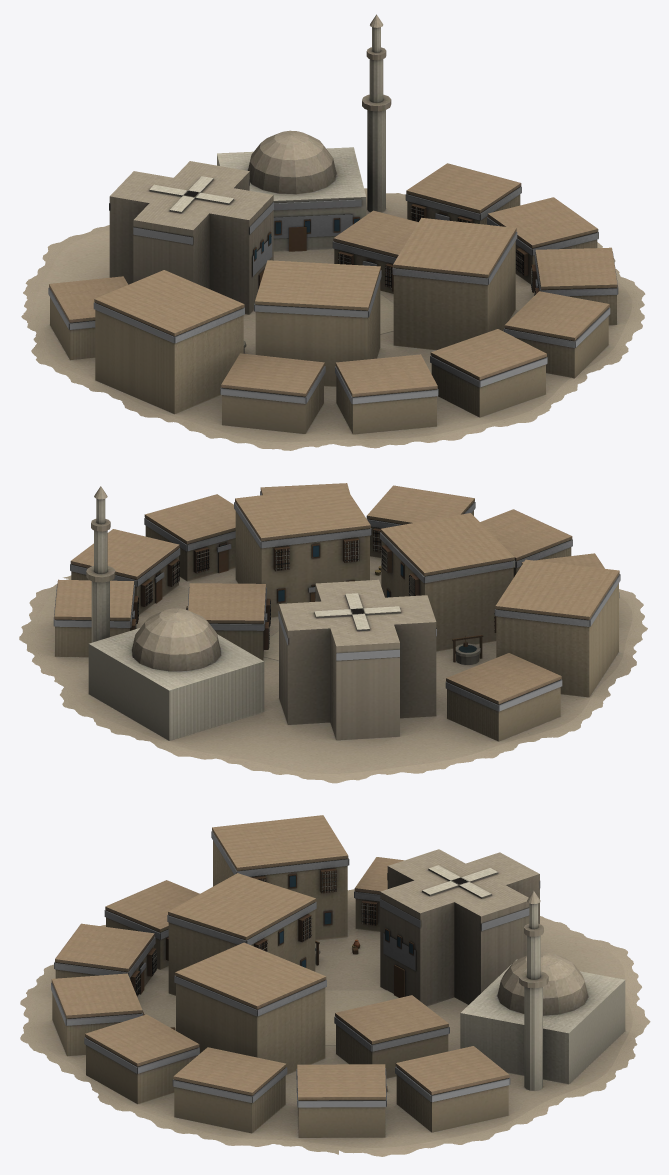
The model's file is kingdoms-town-medium-b-nile-b10b62fa.glb.
3 views of the same model, one above another, from view 1: azimuth 30°, elevation 25°; view 2: azimuth 150°, elevation 25°; view 3: azimuth 270°, elevation 25° (orthographic).
Parts seen in each view (by area): view 1: LOD0; view 2: LOD0; view 3: LOD0.
Part boxes in pixels (box(x1,y1,x2,y2)): LOD0: box(21, 14, 645, 450); LOD0: box(19, 483, 647, 783); LOD0: box(20, 815, 650, 1156).
Size of what is drawn, in the model's own units: 6.02 by 2.03 by 5.92.
Materials: 3 (3 with a texture image).
